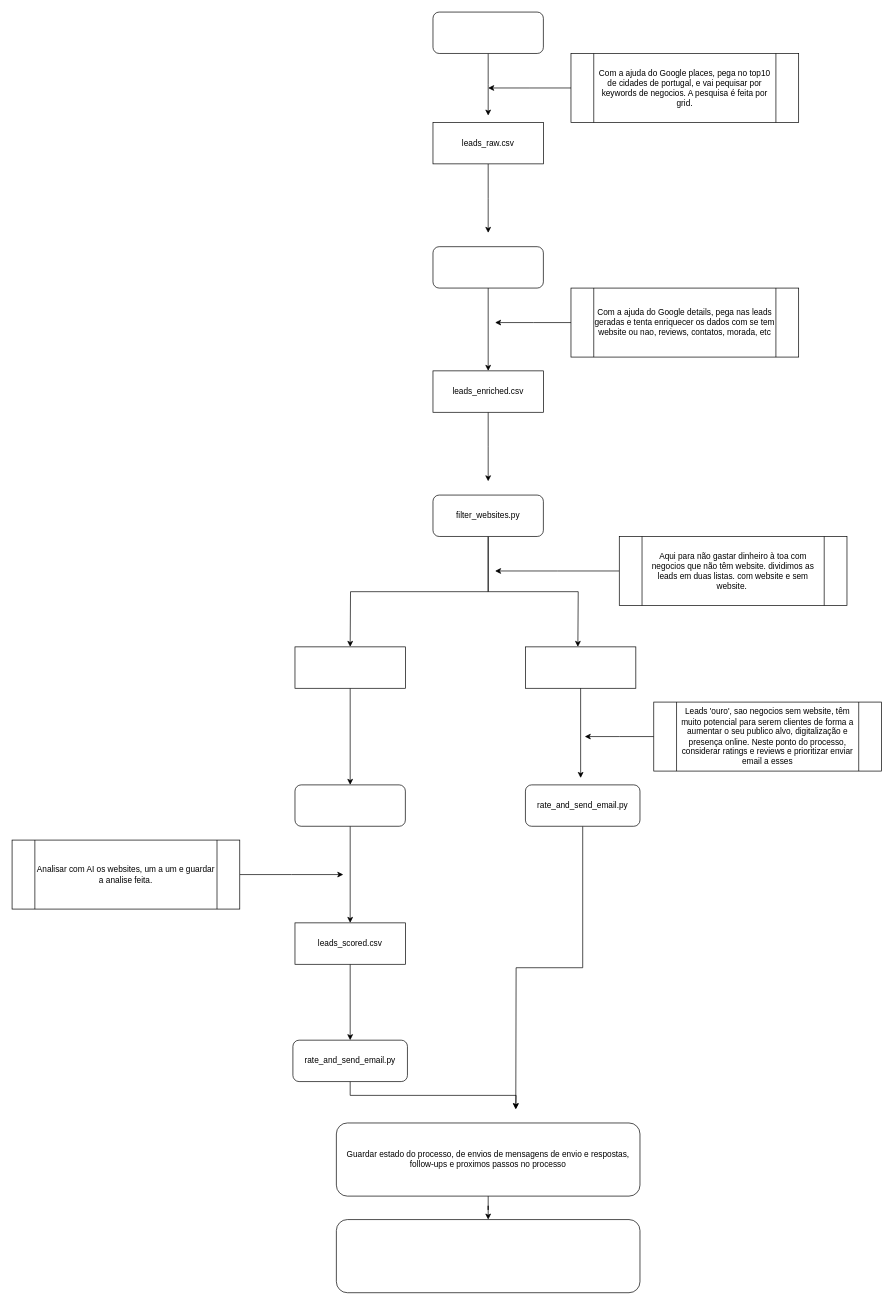
This 894x1305 diagram has some shape labels left out. Each missing label, with the centre of its shape:
A partir daqui é fluxo de outreach e conversão de cliente: (488,1256)
details_enricher.py: (487,267)
leads_with_no_websites.csv: (580,667)
leads_with_websites .csv: (349,667)
scanner.py: (487,32)
website_analyser.py: (349,805)
